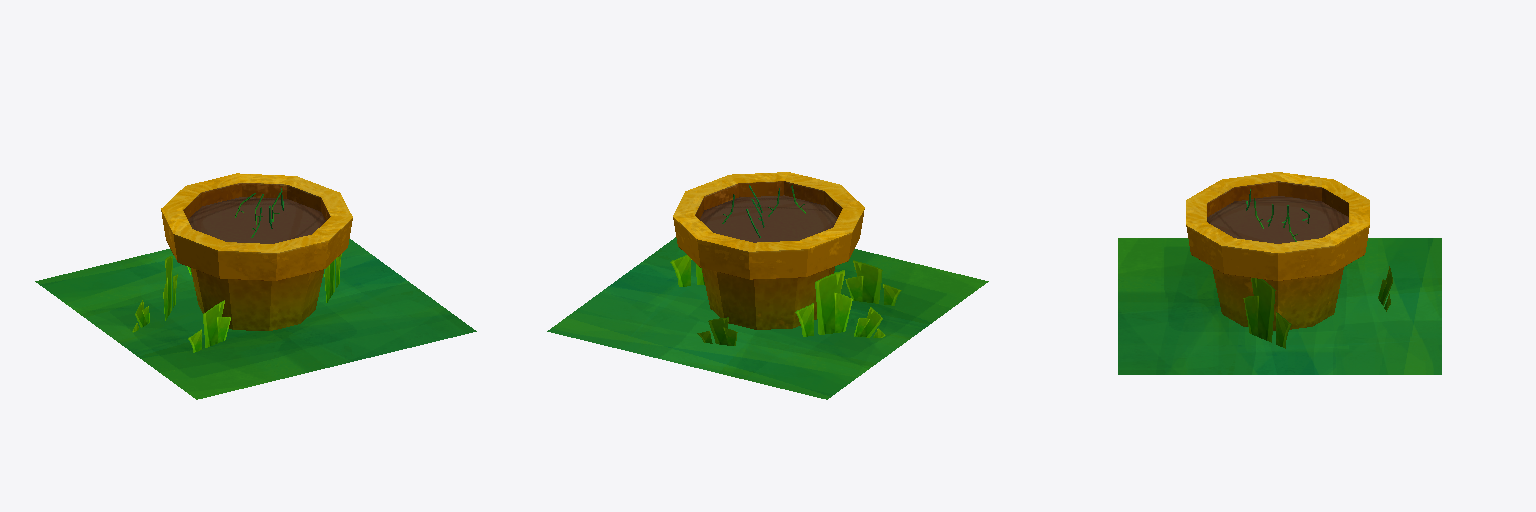
3 renders of one model, left to right at view 1: azimuth 30°, elevation 25°; view 2: azimuth 150°, elevation 25°; view 3: azimuth 270°, elevation 25°, orthographic.
Parts seen in each view (by area): view 1: Stylizedplants_model.002; view 2: Stylizedplants_model.002; view 3: Stylizedplants_model.002.
Part boxes in pixels (left/top/right/bottom): Stylizedplants_model.002: left=35, top=173, right=476, bottom=399; Stylizedplants_model.002: left=547, top=172, right=988, bottom=399; Stylizedplants_model.002: left=1118, top=172, right=1441, bottom=374.
Size of the model in its own units: 45.19 by 19.2 by 45.19.
1 materials, 1 textured.